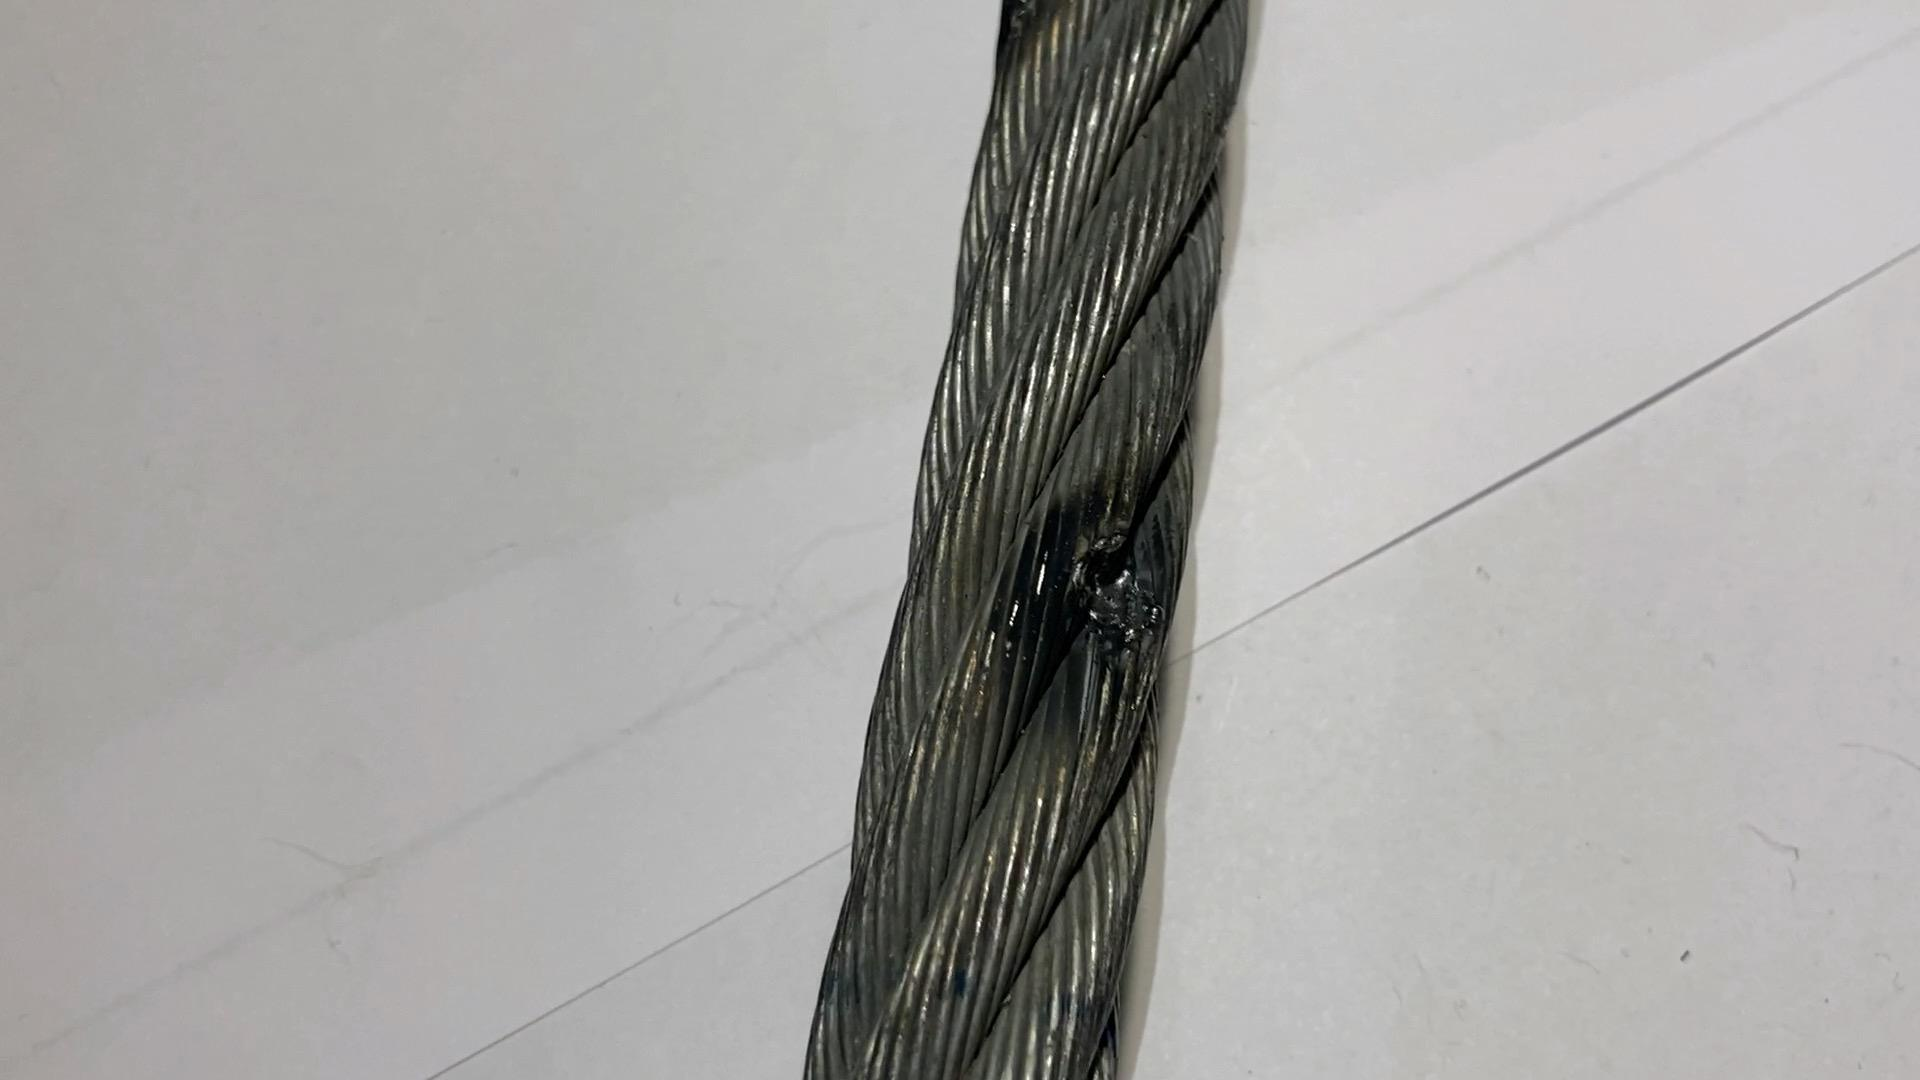thunderbolt: (1038, 506, 1180, 674)
